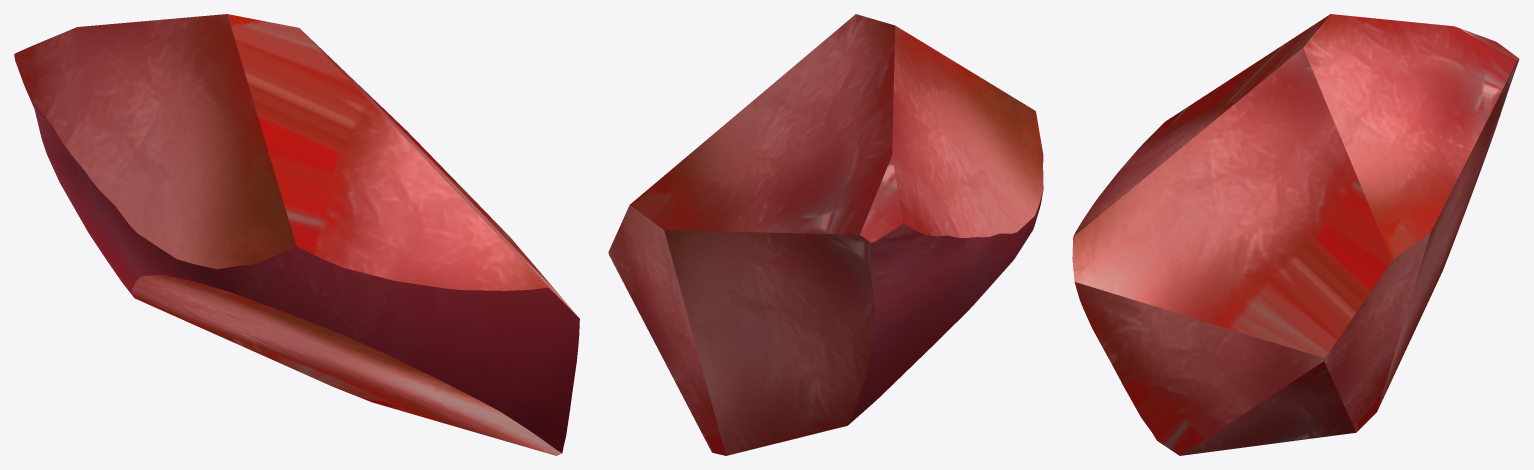
The model's file is SM_HeartPiece_9_.FBX.
3 views of the same model, side by side, from view 1: azimuth 30°, elevation 25°; view 2: azimuth 150°, elevation 25°; view 3: azimuth 270°, elevation 25° (orthographic). The views are drawn at different scales.
Visible parts, largest first — view 1: SM_HeartPiece_9_; view 2: SM_HeartPiece_9_; view 3: SM_HeartPiece_9_.
Part boxes in pixels (box(x1,y1,x2,y2)): SM_HeartPiece_9_: box(14, 14, 579, 455); SM_HeartPiece_9_: box(608, 14, 1043, 455); SM_HeartPiece_9_: box(1072, 14, 1519, 455).
Bounding box in the file's own units: 306 × 370 × 325.
